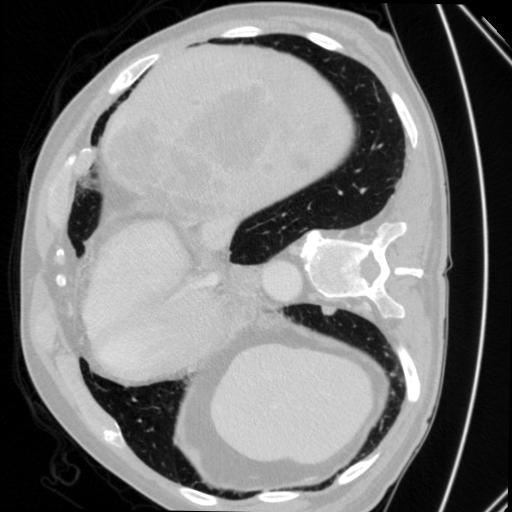nodule: (319, 300, 337, 318)
